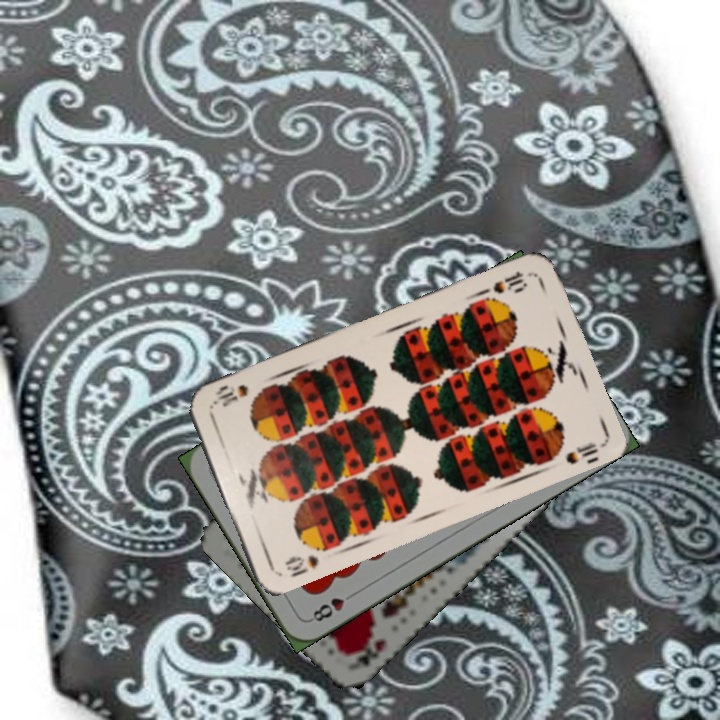H8: (305, 588, 359, 625)
HK: (344, 635, 388, 670)
S10: (489, 267, 529, 297), (281, 551, 322, 580)
